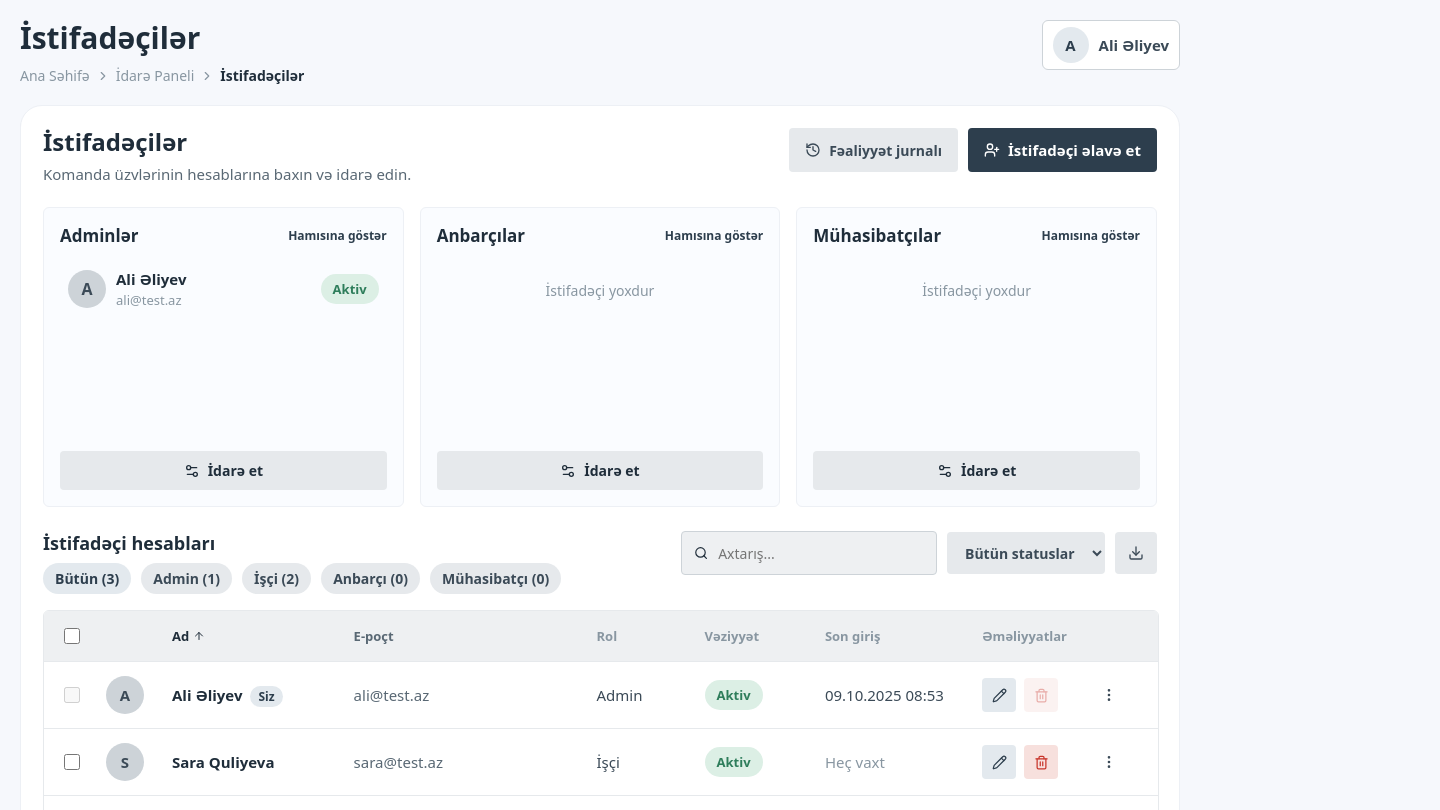
Test: search and status filter narrow the table, reset brings everything back
Check: the 1st element with test id "user-row" is shown, box [44, 662, 1158, 729]
Type "sara" into the field with placeholder "Axtarış..." at [820, 553], box [716, 543, 924, 564]
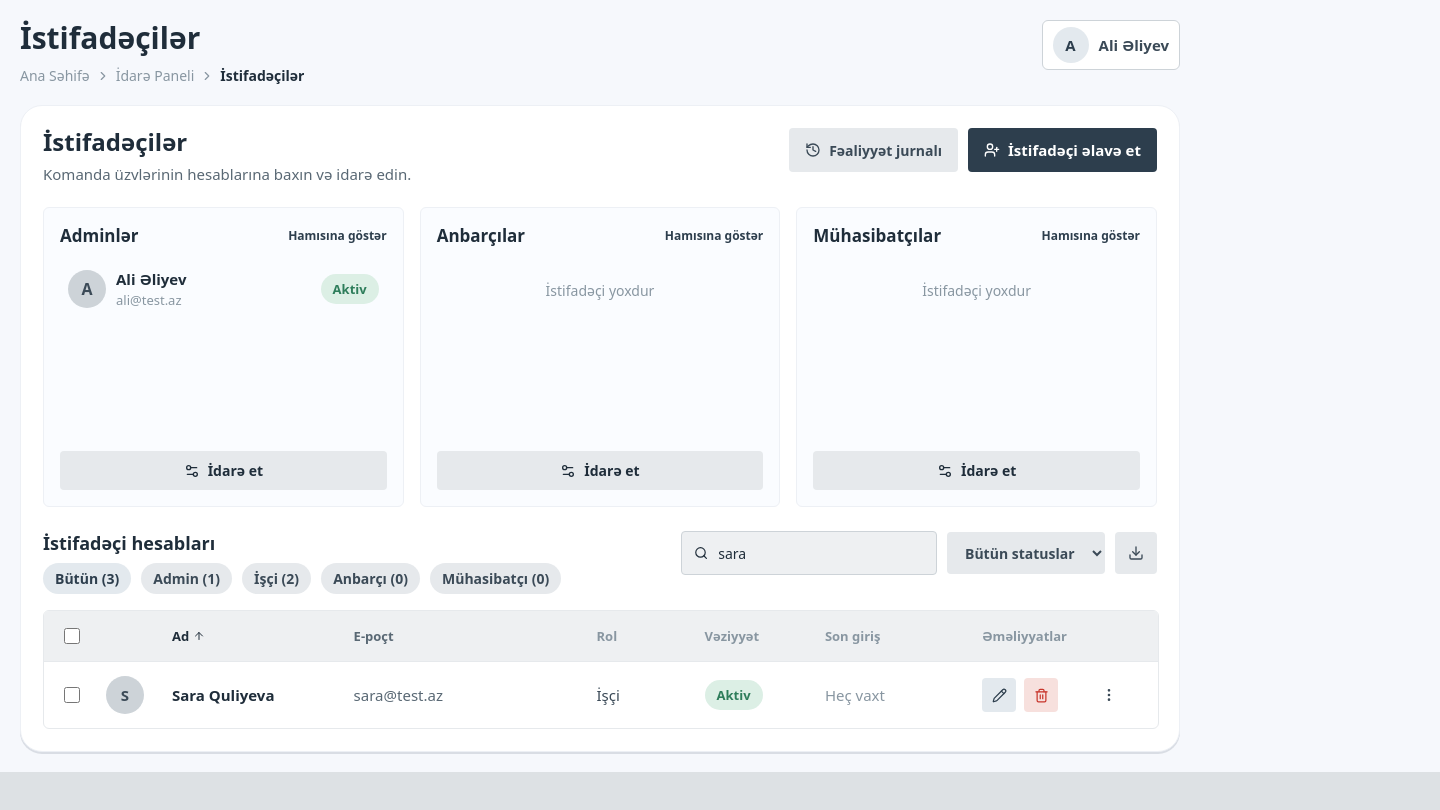
Check: the number of elements with test id "user-row" is 1, box [64, 676, 1126, 714]
Replace the text in the field with placeholder "Axtarış..." with "zzz" at [820, 553], box [716, 543, 924, 564]
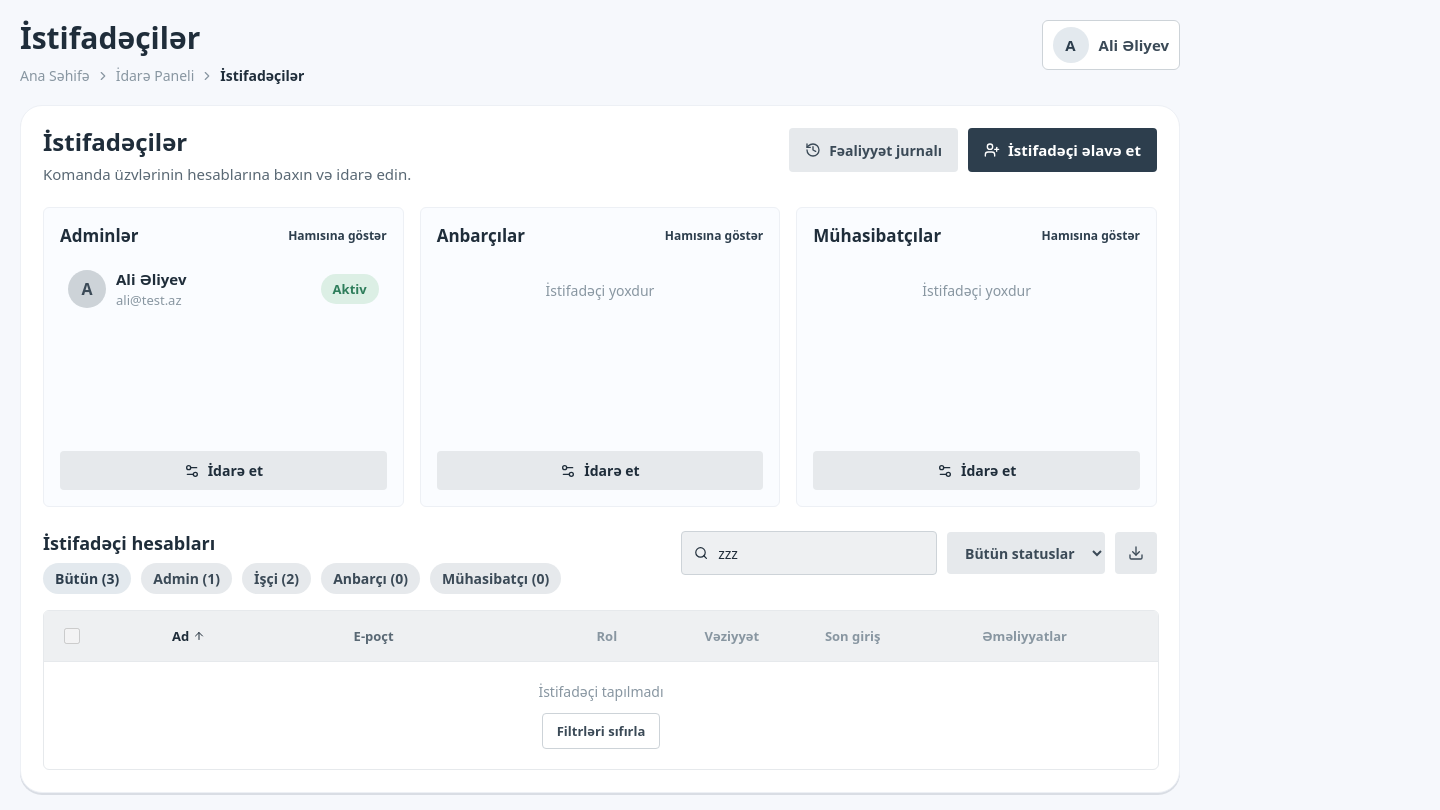
Check: the text "İstifadəçi tapılmadı" is shown, box [538, 682, 664, 701]
Click the button "Filtrləri sıfırla" at [601, 731], box [542, 713, 660, 749]
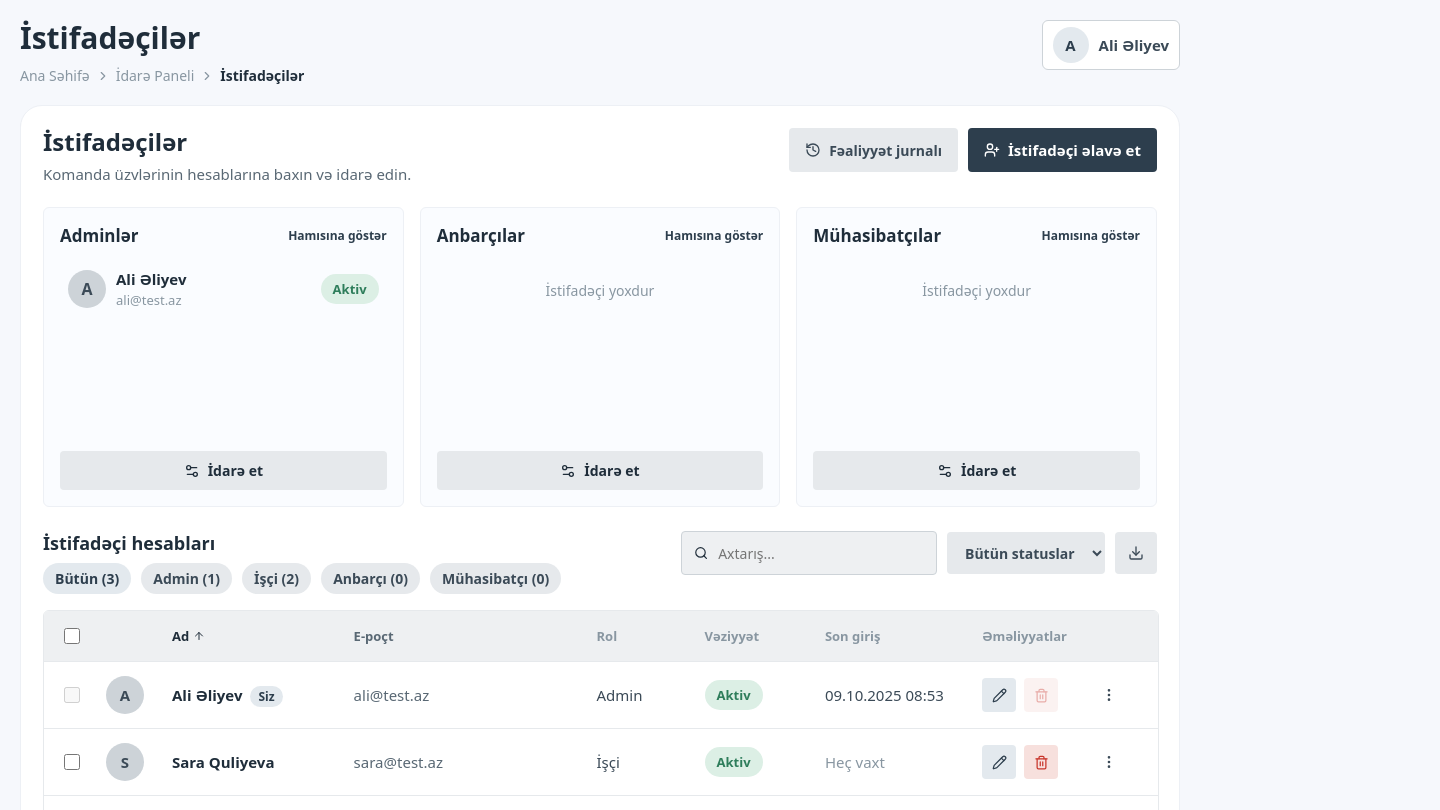
Select "Deaktiv" in the dropdown named "Vəziyyət" at [1026, 553], box [947, 532, 1105, 574]
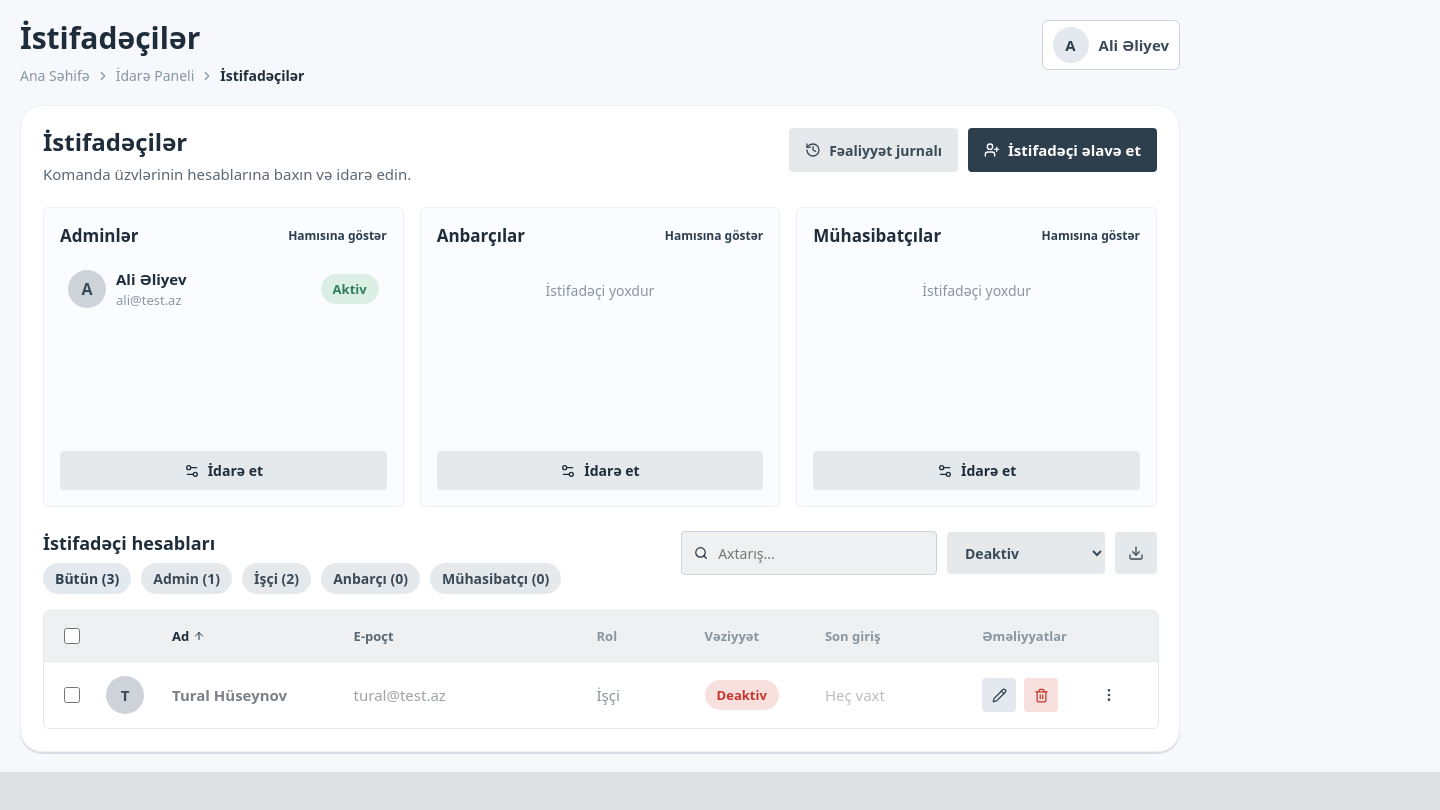
Check: the element with test id "user-row" shows "Tural", box [172, 685, 287, 705]
Check: the number of elements with test id "user-row" is 1, box [64, 676, 1126, 714]
